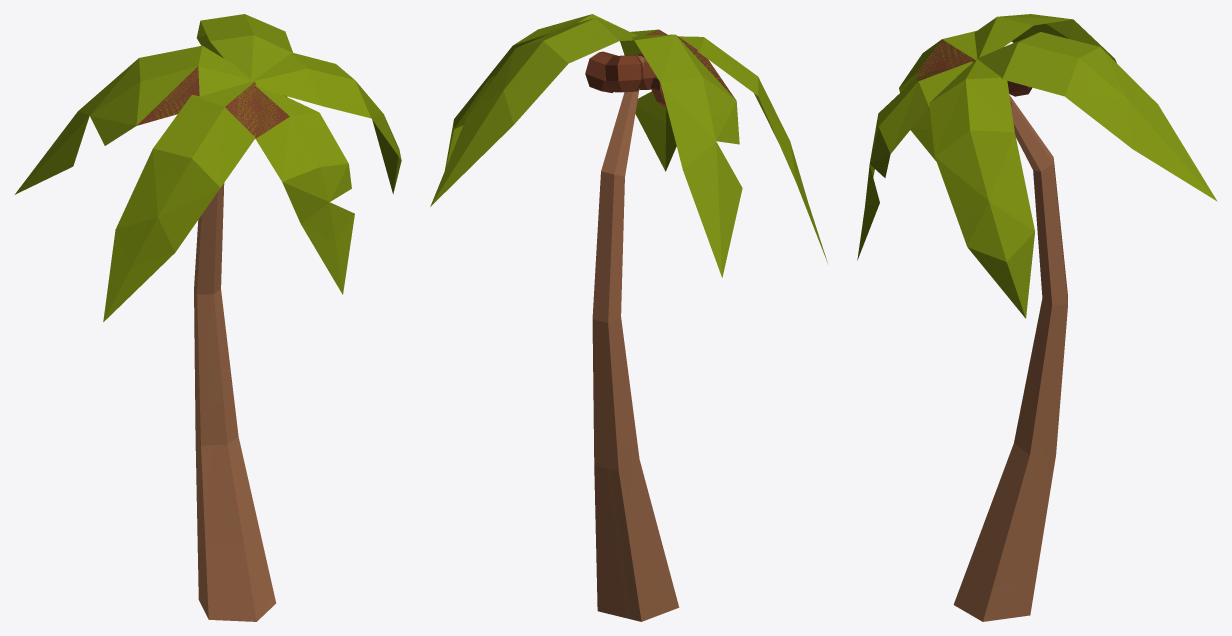
Rendered from palm1.fbx.
3 views of the same model, side by side, from view 1: azimuth 30°, elevation 25°; view 2: azimuth 150°, elevation 25°; view 3: azimuth 270°, elevation 25° (orthographic). The views are drawn at different scales.
Parts seen in each view (by area): view 1: palm-big; view 2: palm-big; view 3: palm-big.
Part boxes in pixels (bbox=[...]): palm-big: bbox=[14, 14, 401, 621]; palm-big: bbox=[430, 14, 827, 621]; palm-big: bbox=[857, 14, 1217, 621].
Size of the model in its own units: 419 by 678 by 384.
1 material, 1 textured.
